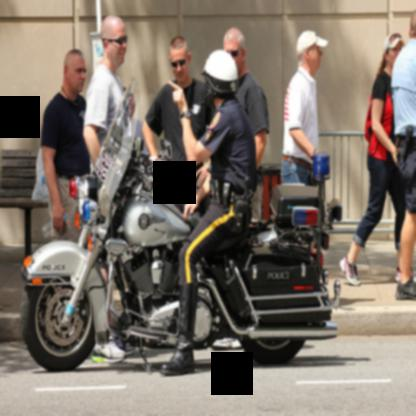backpack: (363, 91, 372, 144)
